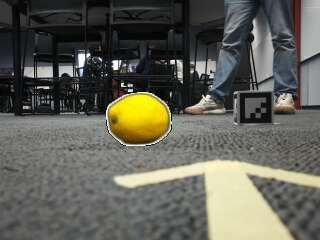lemon: (107, 95, 168, 146)
